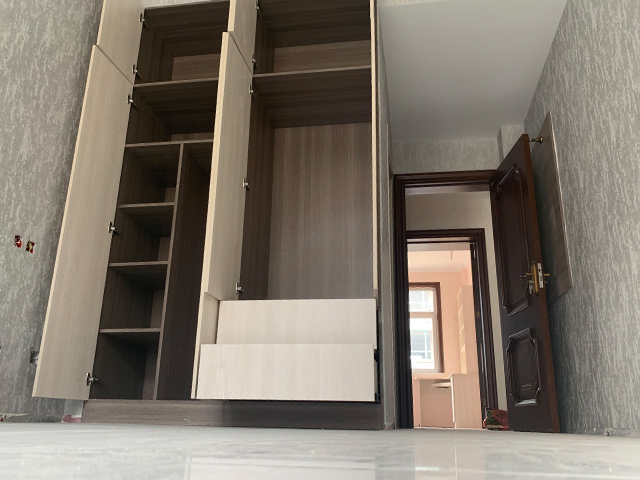cabinet: (86, 277, 389, 431)
table: (401, 367, 484, 429)
